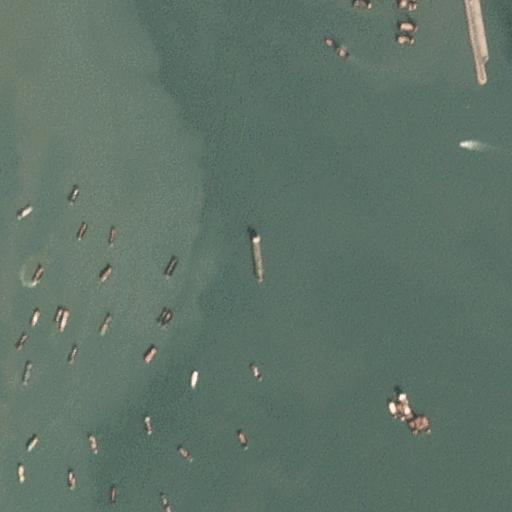ship: (248, 230, 264, 282), (324, 36, 352, 61), (164, 255, 179, 278), (100, 312, 114, 336), (60, 307, 71, 332), (177, 445, 193, 462), (17, 205, 35, 220), (32, 266, 46, 285), (22, 361, 33, 385), (236, 429, 249, 449), (250, 362, 263, 382), (26, 434, 40, 452), (100, 265, 114, 282), (144, 346, 158, 363), (68, 344, 79, 364), (68, 185, 80, 203), (157, 306, 169, 324), (88, 433, 98, 454), (77, 222, 89, 239), (162, 310, 174, 327), (17, 333, 29, 349), (108, 226, 117, 246), (190, 369, 199, 389), (144, 415, 153, 435), (68, 469, 77, 489), (31, 310, 41, 326), (17, 463, 25, 482), (110, 484, 117, 504), (55, 306, 63, 323), (459, 141, 471, 148)
